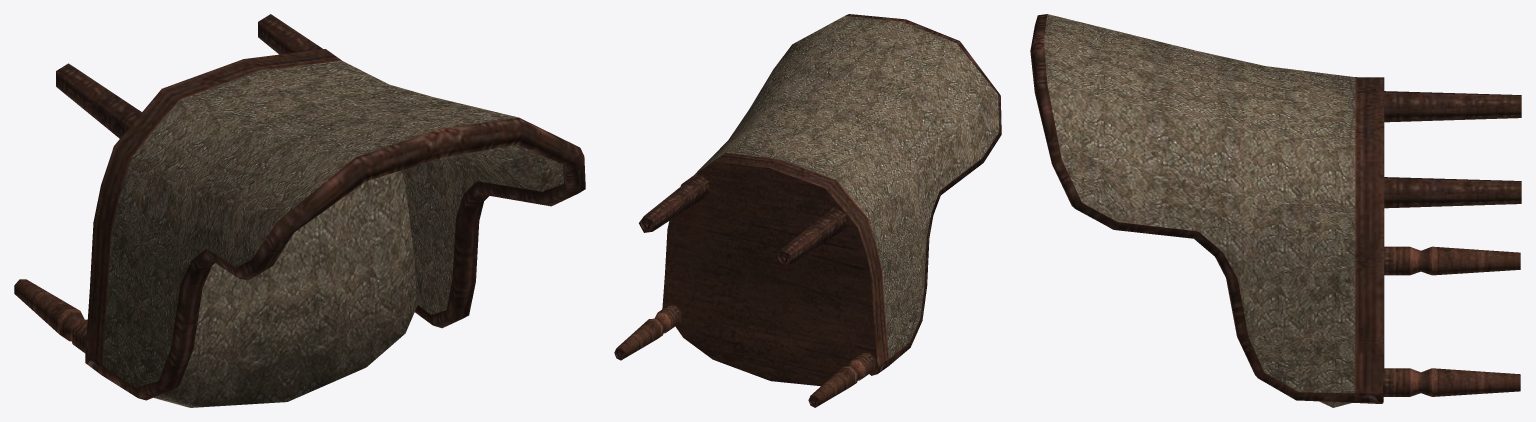
The model's file is furniture_duhoc_armchair.glb.
3 views of the same model, side by side, from view 1: azimuth 30°, elevation 25°; view 2: azimuth 150°, elevation 25°; view 3: azimuth 270°, elevation 25° (orthographic). The views are drawn at different scales.
Bounding box in the file's own units: 33.02 × 37.48 × 48.81.
1 material, 1 textured.
